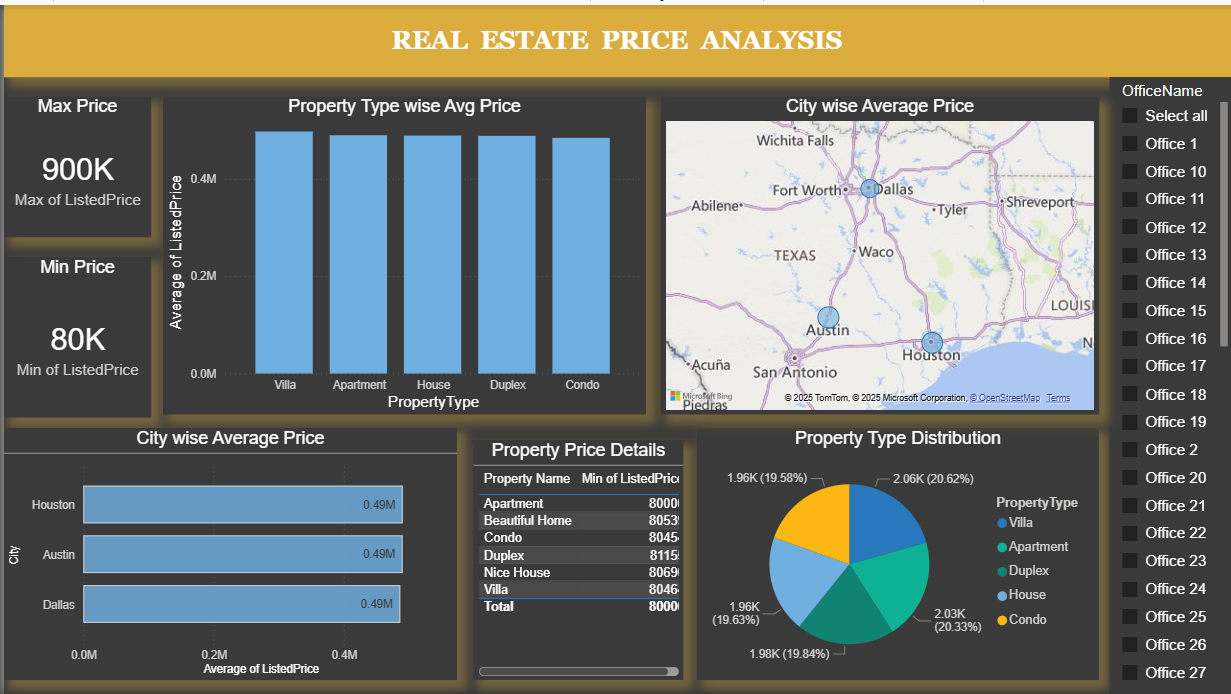

What the dashboard file says about the page in this screenshot:
{"tool":"powerbi","page":{"name":"Page 3","canvas":[1280,720],"ordinal":5},"visuals":[{"type":"textbox","box":[0,0,1280.1,75],"z":0},{"type":"card","title":"Max Price","fields":{"Values":["Max(Properties.ListedPrice)"]},"box":[0,95.3,153.2,146.9],"z":1000},{"type":"card","title":"Min Price","fields":{"Values":["Min(Properties.ListedPrice)"]},"box":[0,262.6,153.2,167.2],"z":2000},{"type":"clusteredColumnChart","title":"Property Type wise Avg Price","fields":{"Category":["Properties.PropertyType"],"Y":["Avg(Properties.ListedPrice)"]},"box":[165.7,95.3,503.3,331.4],"z":3000},{"type":"clusteredBarChart","title":"City wise Average Price","fields":{"Category":["Neighborhoods.City"],"Y":["Avg(Properties.ListedPrice)"]},"box":[0,440.8,472,262.6],"z":4000},{"type":"tableEx","title":"Property Price Details","fields":{"Values":["Properties.Property Name","Min(Properties.ListedPrice)"]},"box":[489.2,453.3,218.8,250.1],"z":5000},{"type":"pieChart","title":" Property Type Distribution","fields":{"Category":["Properties.PropertyType"],"Y":["CountNonNull(Properties.PropertyID)"]},"box":[722.1,440.8,418.9,262.6],"z":6000},{"type":"slicer","fields":{"Values":["Offices.OfficeName"]},"box":[1151.9,75,128.2,645.5],"z":7000},{"type":"map","title":"City wise Average Price","fields":{"Category":["Neighborhoods.City"],"Size":["Sum(Properties.ListedPrice)"]},"box":[684.6,95.3,456.4,331.4],"z":8000}]}

Visuals, with their boxes in screenshot pixels (x1, y1, x2, y2), scaled from the page's 1280x720 canvas onto the 1231x694 screenshot:
textbox: 0,0,1230,72
"Max Price" card: 0,92,147,233
"Min Price" card: 0,253,147,414
"Property Type wise Avg Price" clusteredColumnChart: 159,92,643,411
"City wise Average Price" clusteredBarChart: 0,425,454,678
"Property Price Details" tableEx: 470,437,681,678
" Property Type Distribution" pieChart: 694,425,1097,678
slicer - Offices.OfficeName: 1108,72,1230,693
"City wise Average Price" map: 658,92,1097,411
